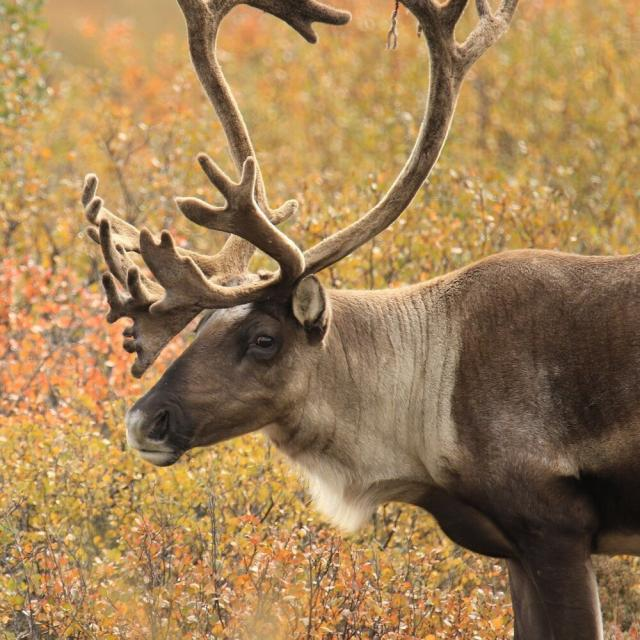Reindeer: (67, 3, 640, 640)
